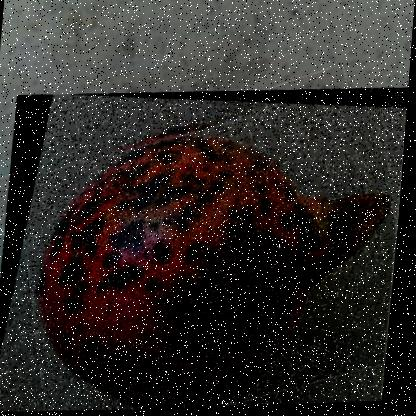pomegranate_rotten: (0, 81, 410, 414)
